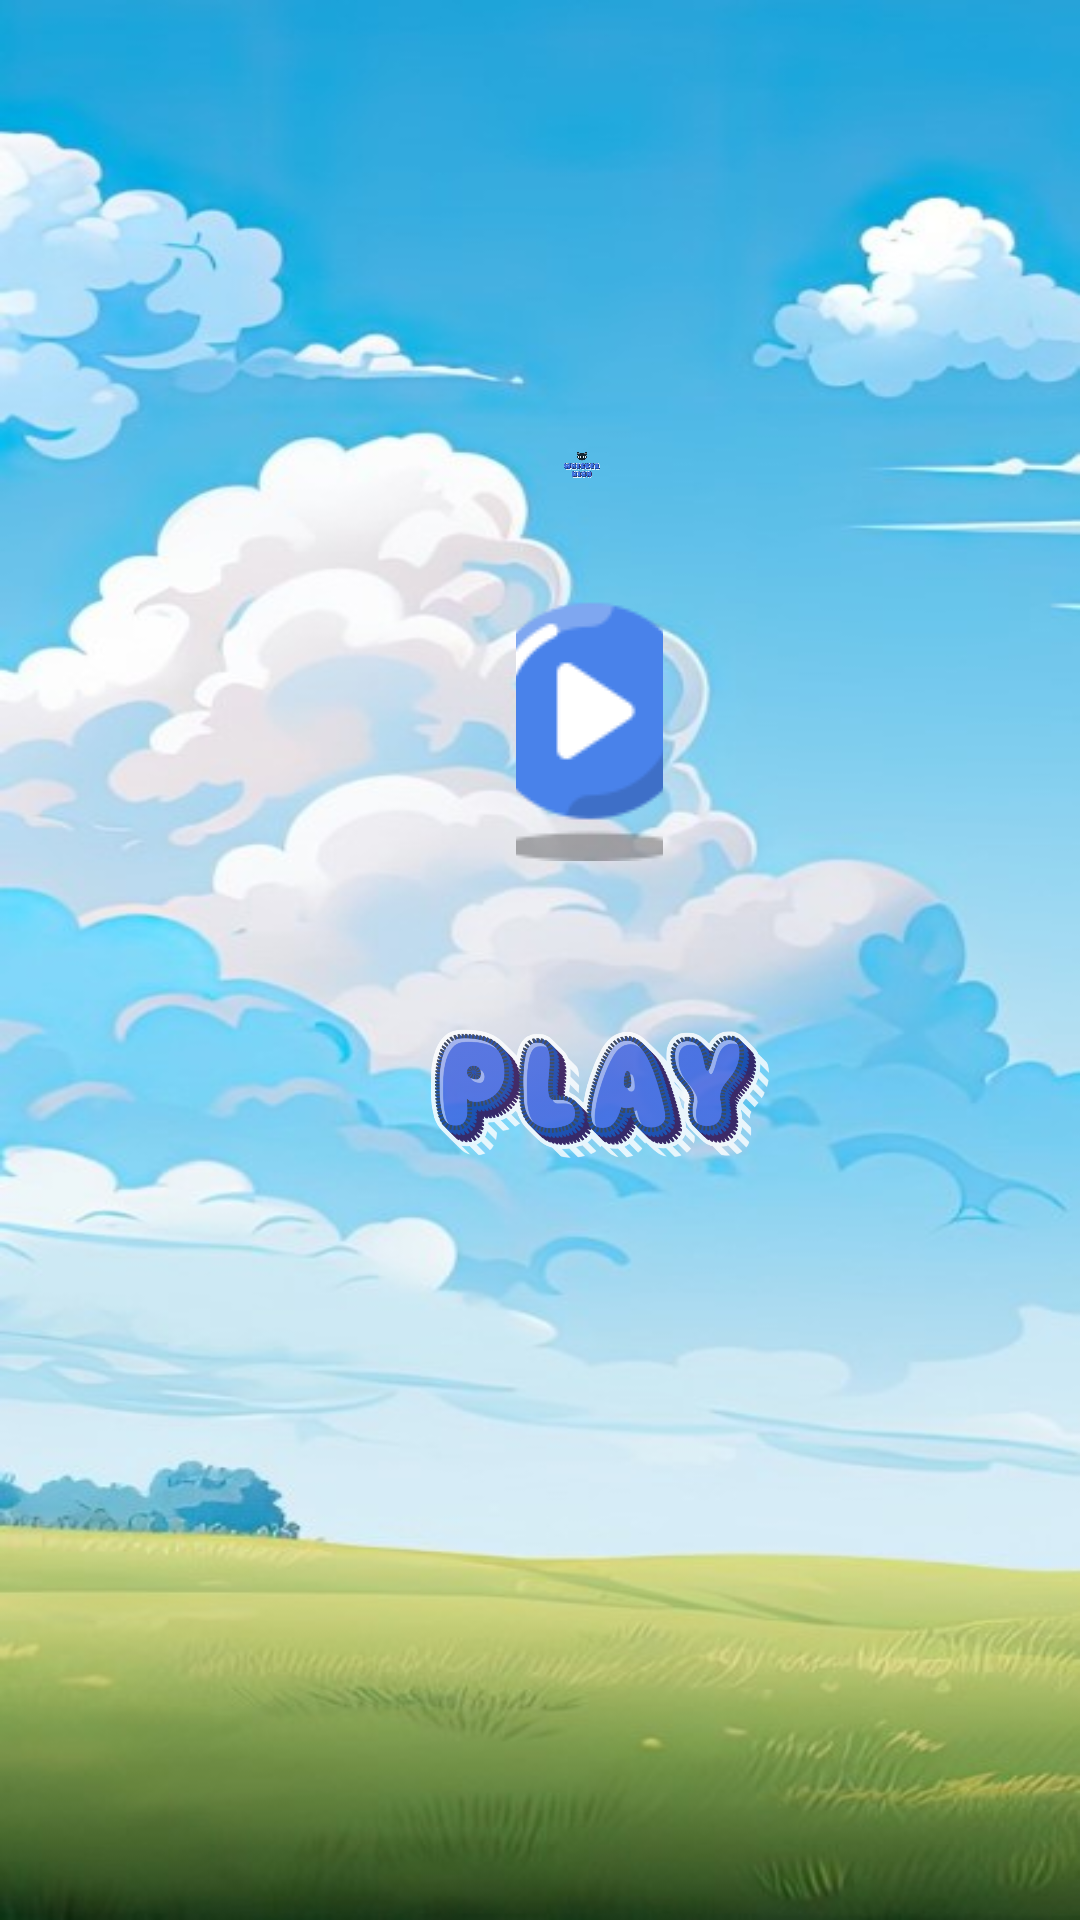

Icon click points for this 1080w x 1920h phone screenshot, format (x,y):
Play Button: (589,711)
